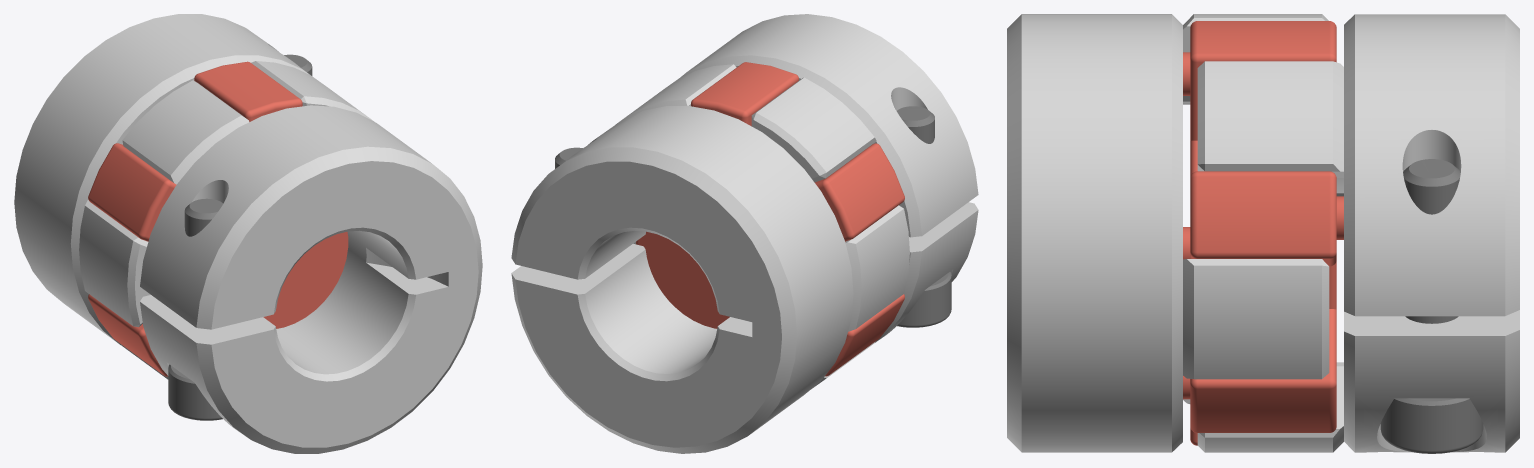
The model's file is flex coupler-rubber.fbx.
3 renders of one model, left to right at view 1: azimuth 30°, elevation 25°; view 2: azimuth 150°, elevation 25°; view 3: azimuth 270°, elevation 25°, orthographic. The views are drawn at different scales.
Parts seen in each view (by area): view 1: Cut002, Cut003, Body006, M4x16-Screw002; view 2: Cut003, Cut002, Body006, M4x16-Screw002; view 3: Cut002, Cut003, Body006, M4x16-Screw.
Part boxes in pixels (box(x1,y1,x2,y2)): Cut002: box(122, 80, 482, 453); Cut003: box(14, 14, 374, 345); Body006: box(88, 61, 348, 376); M4x16-Screw002: box(168, 198, 223, 420); Cut003: box(511, 64, 909, 453); Cut002: box(633, 14, 978, 388); Body006: box(636, 62, 904, 376); M4x16-Screw002: box(896, 106, 951, 327); Cut002: box(1007, 14, 1329, 452); Cut003: box(1197, 14, 1519, 452); Body006: box(1183, 21, 1343, 445); M4x16-Screw: box(1380, 159, 1483, 453).
Size of the model in its own units: 3 by 3 by 3.5.
